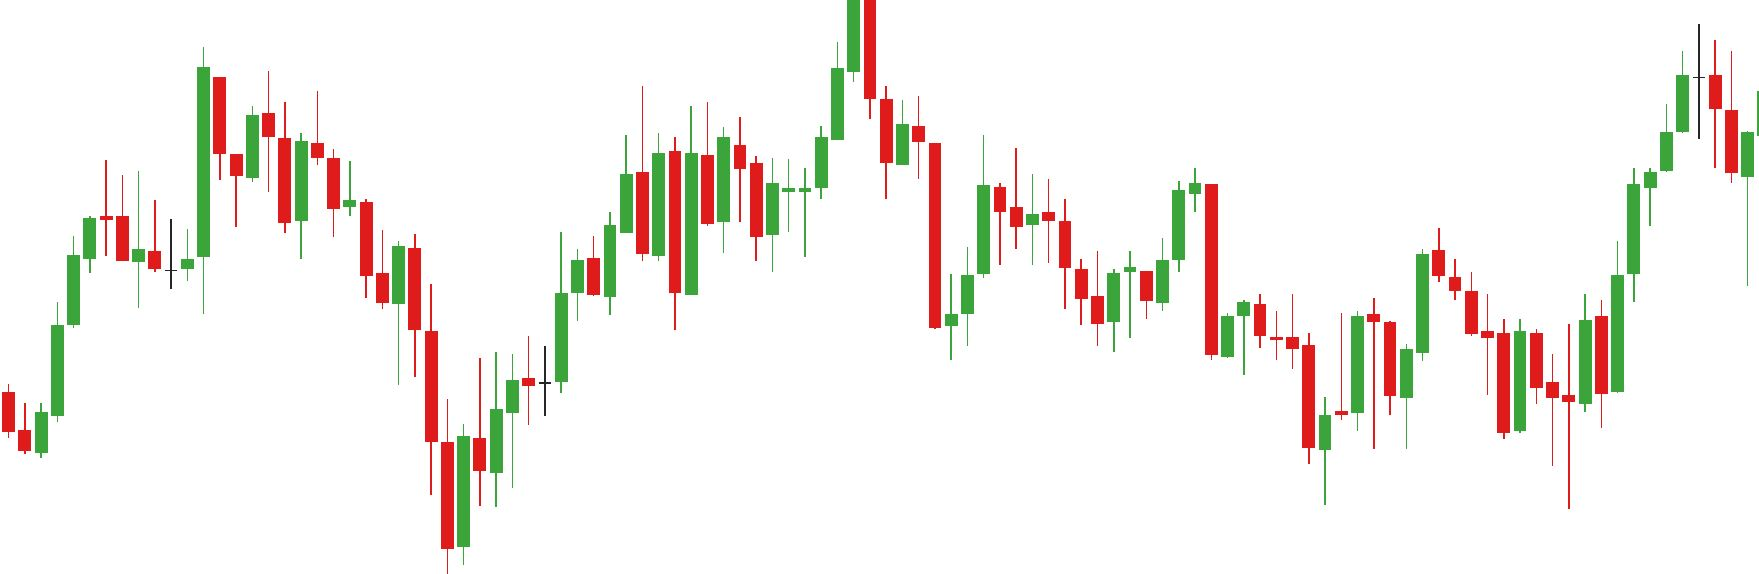sell: (635, 6, 896, 200)
